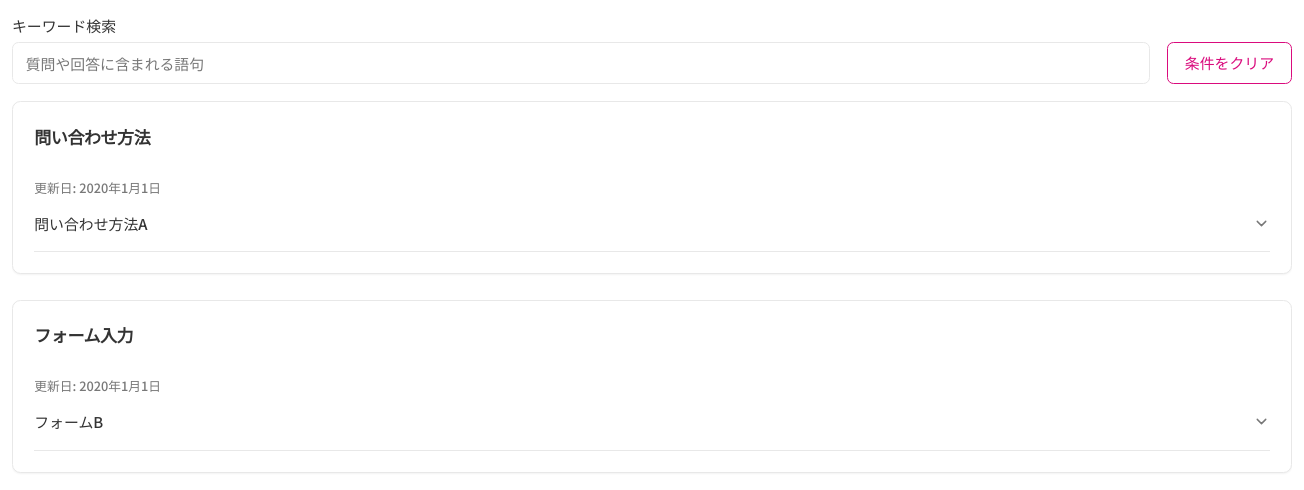
Test case: FaqListClient › 絞り込み結果が0件のカテゴリグループは表示しない
Type "問い合わせ方法A" into the field labelled "キーワード検索" at [581, 63], box [12, 42, 1150, 84]
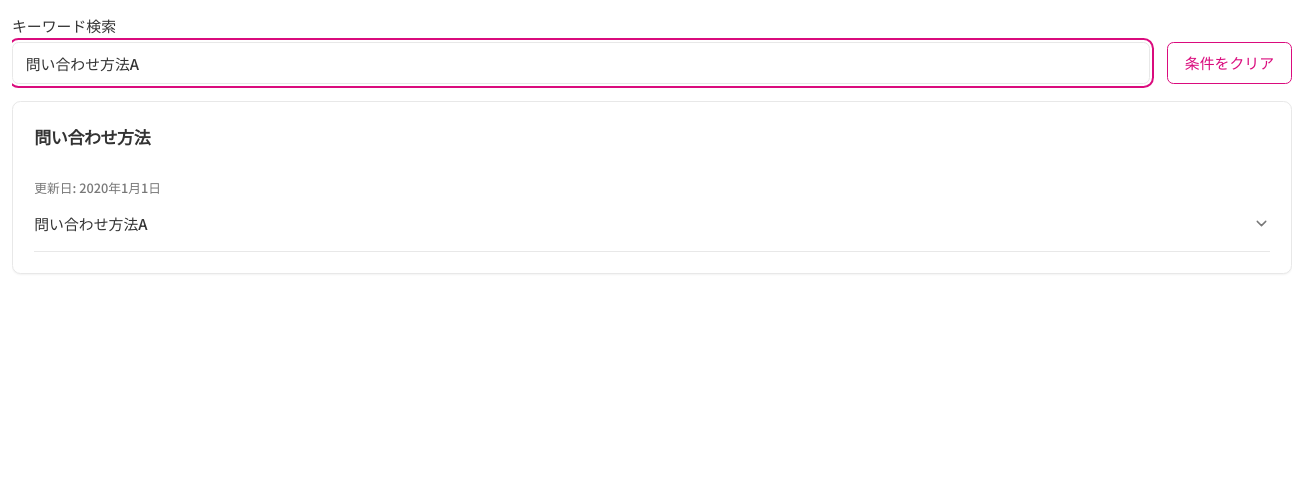
Expected: the heading "問い合わせ方法" is shown, [34, 124, 150, 148]
Now the heading "フォーム入力" is gone
